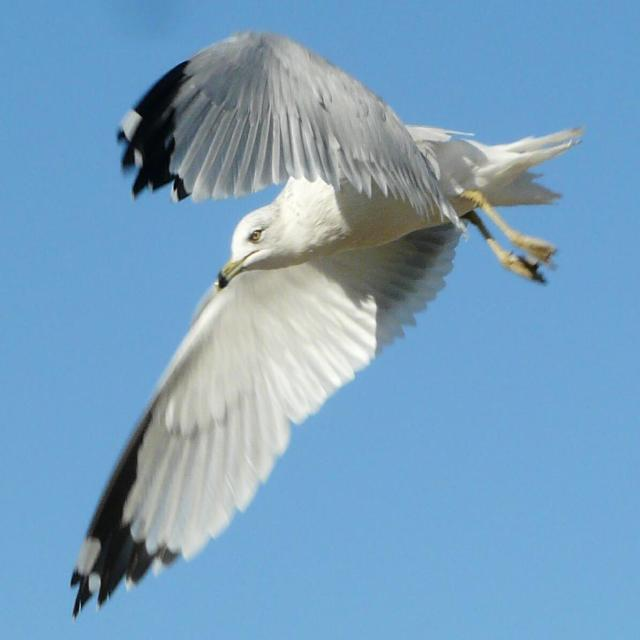bird: (45, 30, 609, 624)
